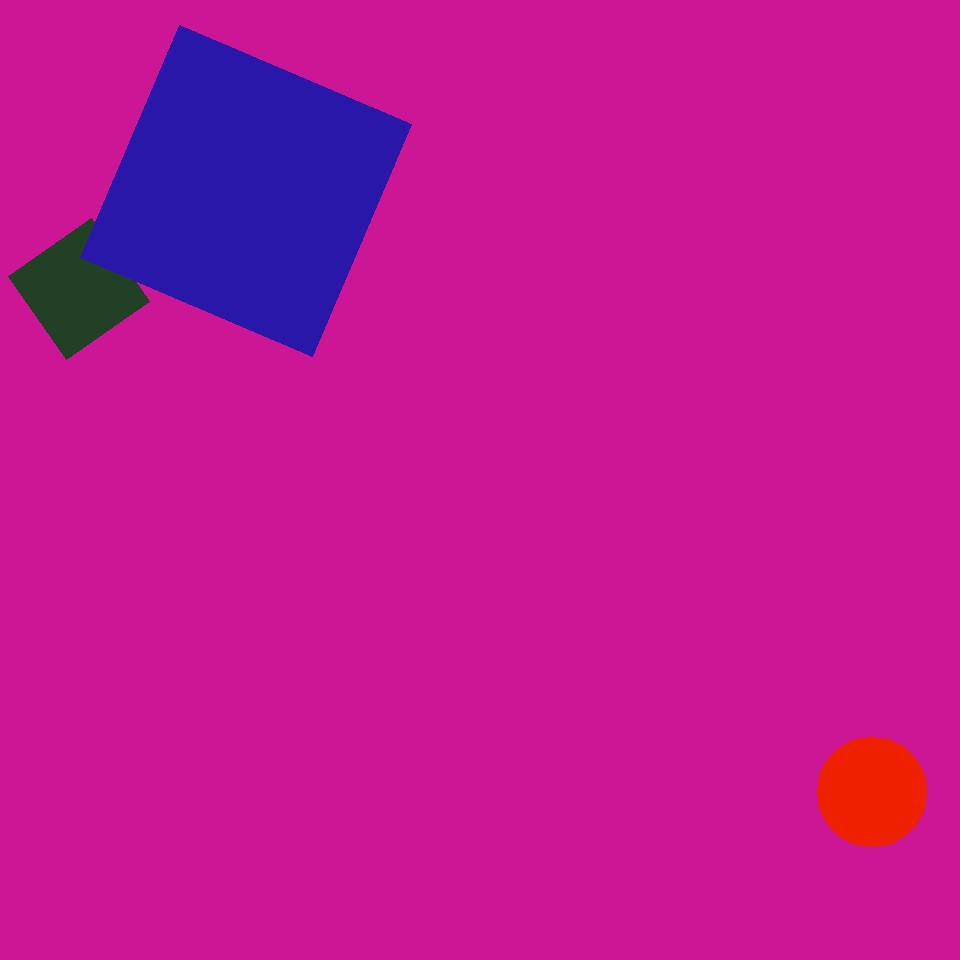square: (80, 25, 411, 356), (767, 527, 923, 683), (8, 218, 150, 360), (82, 68, 187, 174)
triangle: (818, 738, 926, 846)
